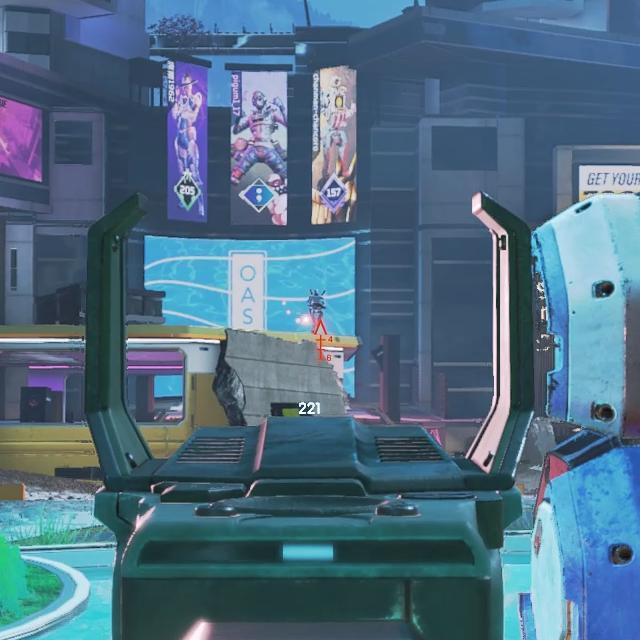avatar: (305, 287, 328, 335)
